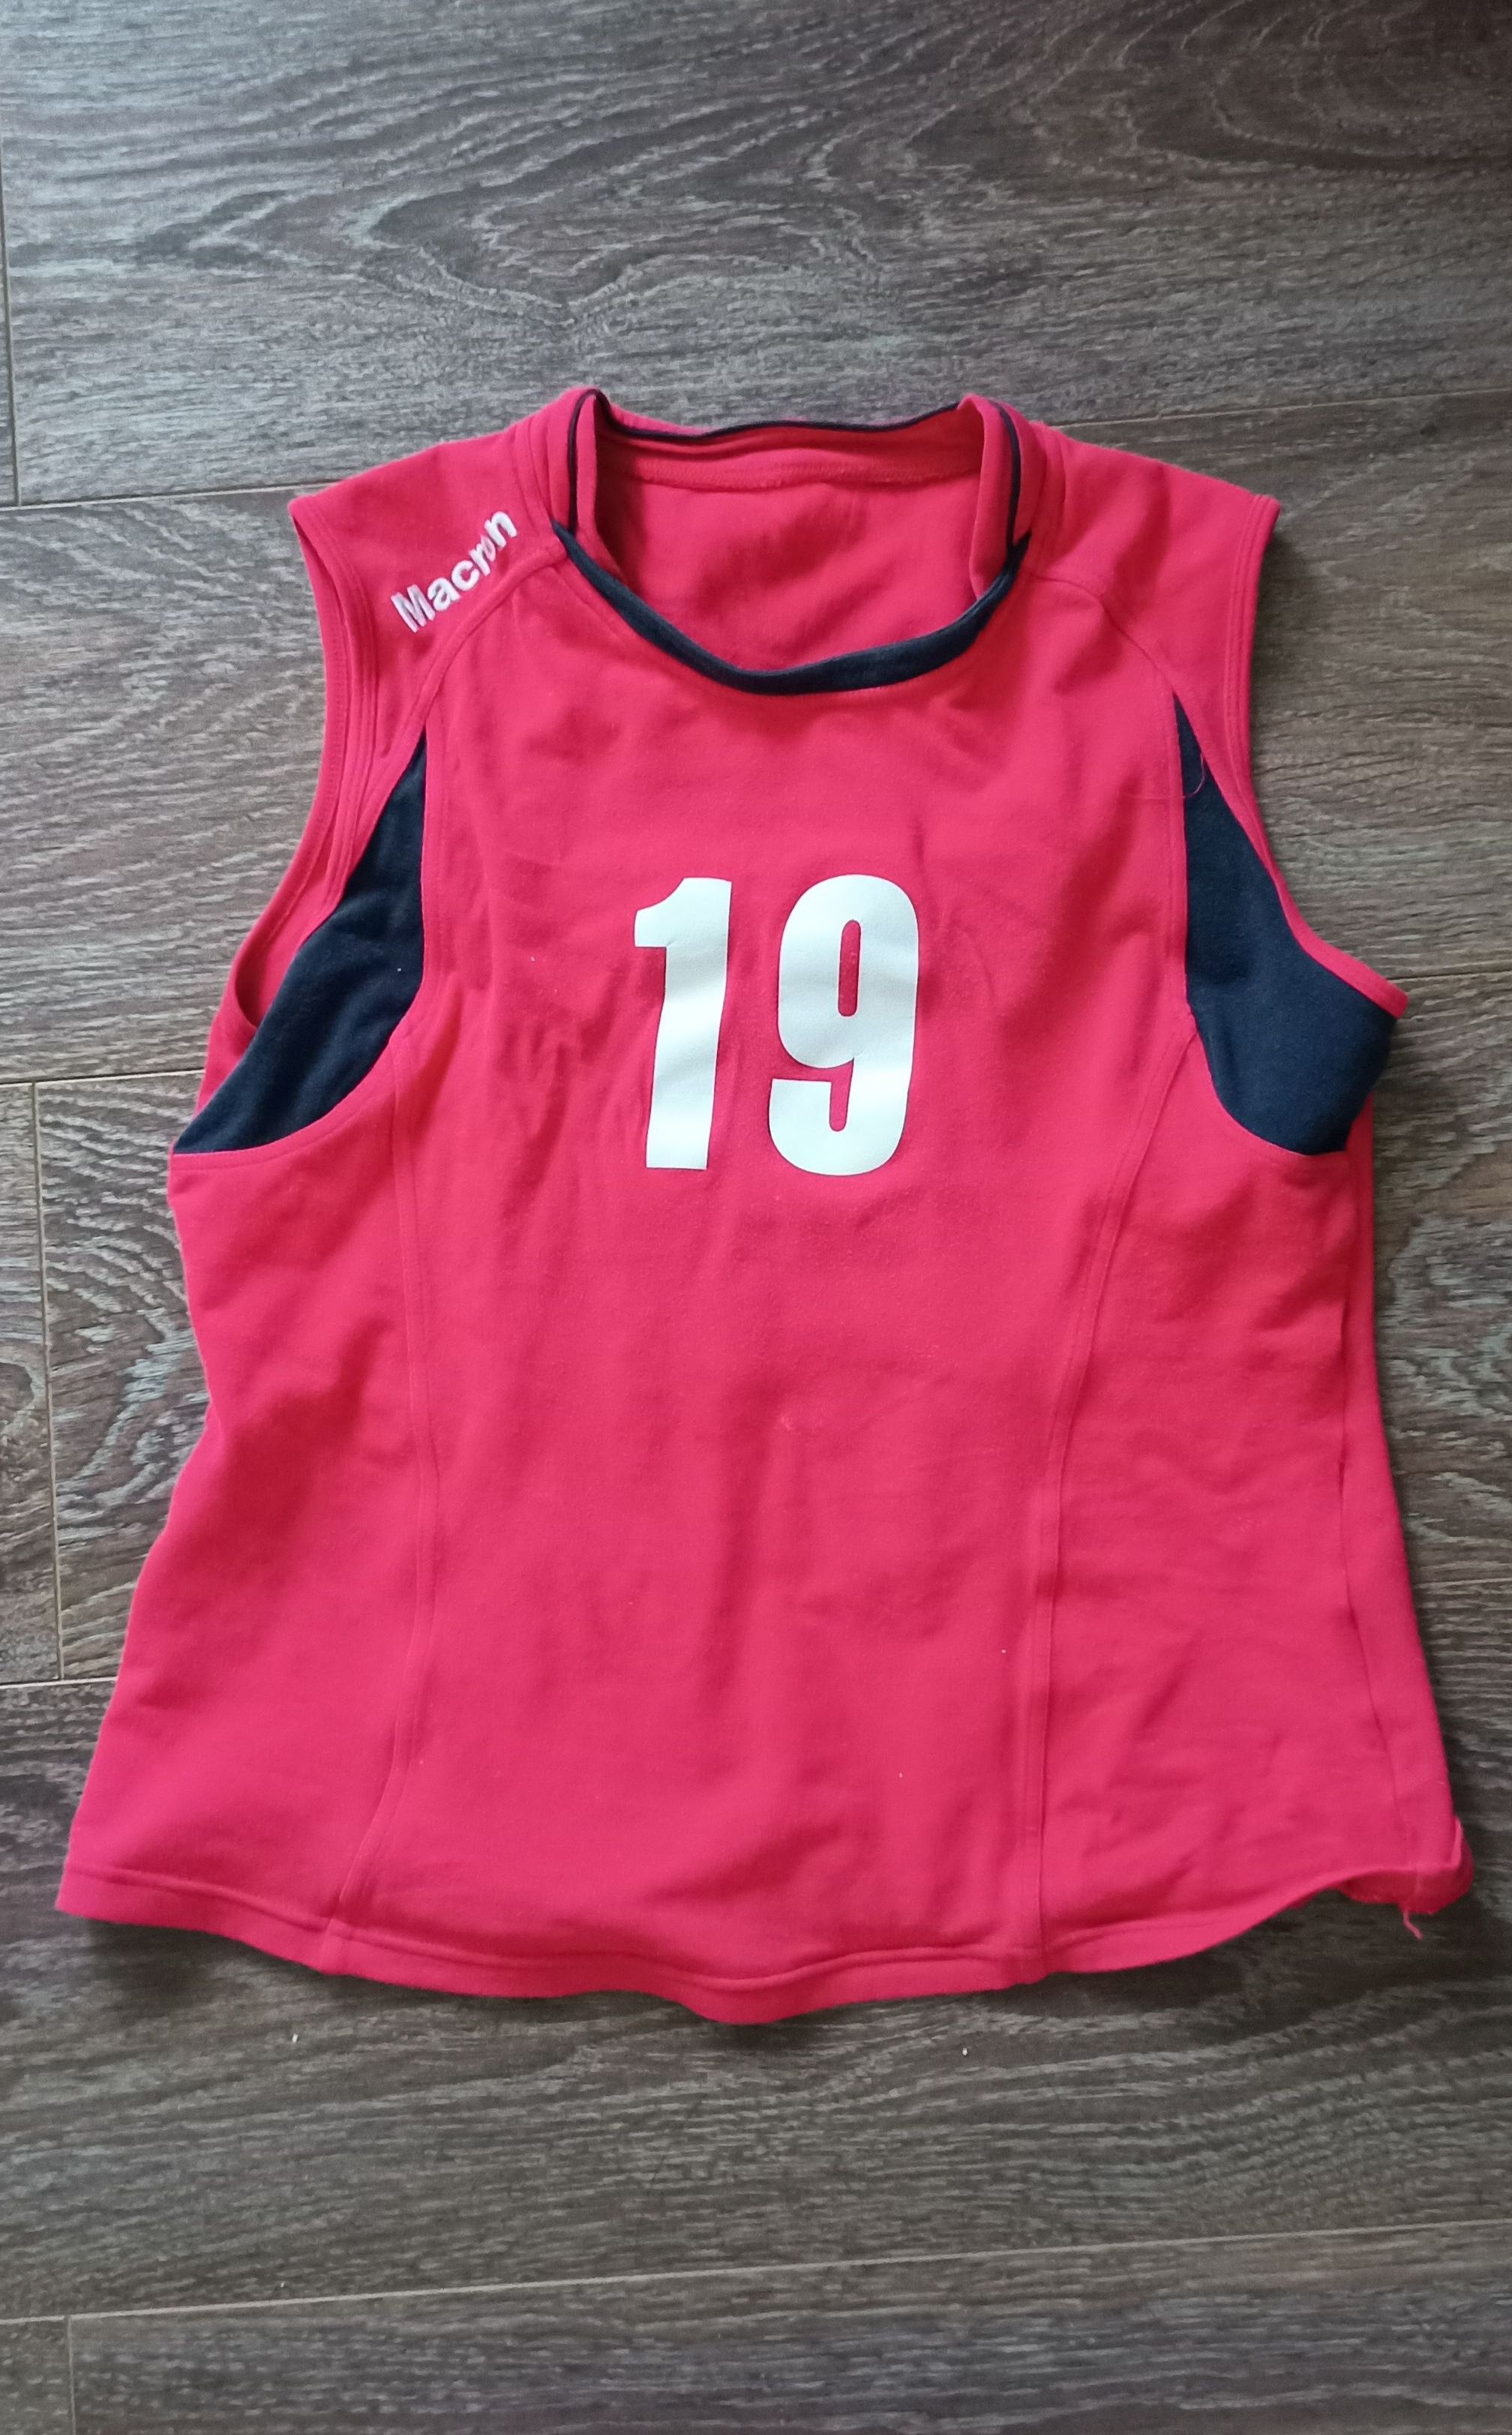clothes: (51, 362, 1437, 2000)
